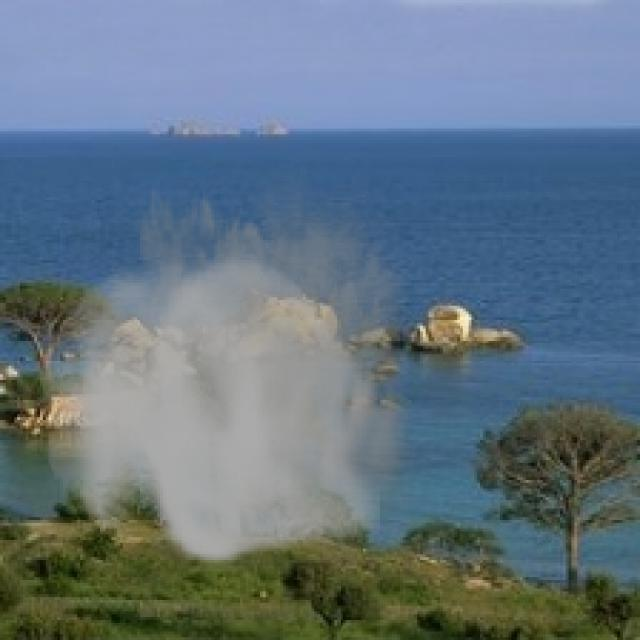smoke: (40, 146, 431, 571)
